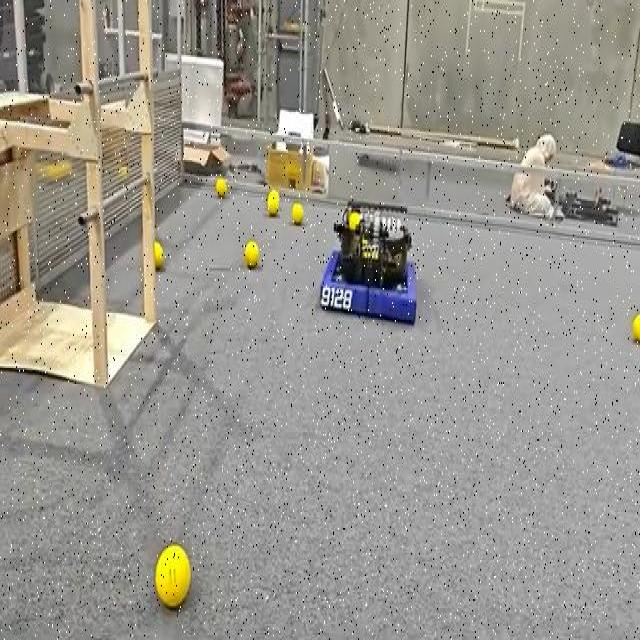Fuel: (154, 545, 190, 609), (155, 544, 190, 606), (244, 241, 260, 268), (244, 240, 259, 267), (266, 189, 279, 215), (267, 190, 280, 216), (291, 201, 303, 224), (292, 202, 304, 225), (154, 240, 163, 268), (630, 313, 639, 341), (215, 177, 227, 197), (347, 212, 360, 230), (215, 176, 226, 197), (632, 315, 640, 343)
